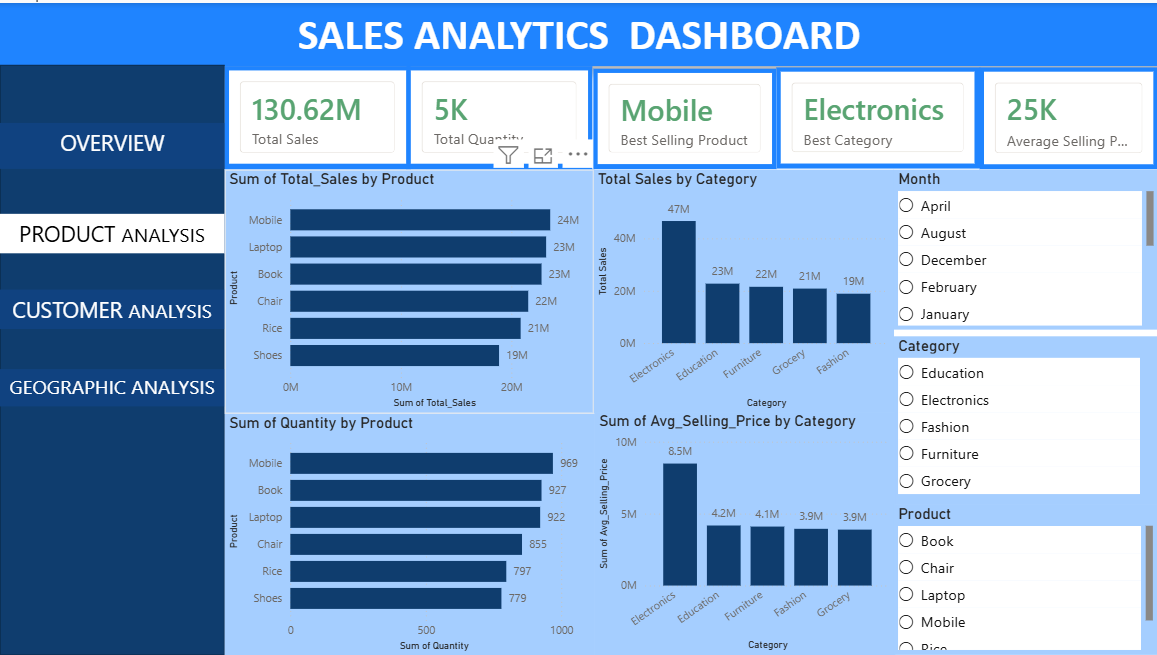

This screenshot's page, from the dashboard's own definition file:
{"tool":"powerbi","page":{"name":"PRODUCT ANALYSIS","canvas":[1280,720],"ordinal":1},"visuals":[{"type":"textbox","box":[0,0,1279.4,69.7],"z":0},{"type":"shape","box":[0,68.1,248,651.7],"z":1000},{"type":"textbox","box":[0,132.3,248,50.6],"z":2000},{"type":"textbox","box":[0,232.7,247.6,43.3],"z":3000},{"type":"textbox","box":[0,316.9,247.6,43.3],"z":4000},{"type":"textbox","box":[0,404.8,247.6,40.9],"z":5000},{"type":"cardVisual","fields":{"Data":["sales_data_cleaned.Total Sales"]},"box":[248,69.1,205.2,113.8],"z":6000},{"type":"cardVisual","fields":{"Data":["sales_data_cleaned.Total Quantity"]},"box":[449.4,69.1,205.2,113.8],"z":7000},{"type":"cardVisual","fields":{"Data":["sales_data_cleaned.Average Selling Price"]},"box":[1081.6,71,197.4,112.8],"z":8000},{"type":"cardVisual","fields":{"Data":["sales_data_cleaned.Best Category"]},"box":[856.9,71,224.7,111.9],"z":9000},{"type":"clusteredColumnChart","fields":{"Category":["sales_data_cleaned.Category"],"Y":["sales_data_cleaned.Total Sales"]},"box":[655.6,183.8,331.7,268.4],"z":10000},{"type":"barChart","fields":{"Category":["sales_data_cleaned.Product"],"Y":["Sum(sales_data_cleaned.Quantity)"]},"box":[248,452.3,408.5,267.5],"z":11000},{"type":"listSlicer","fields":{"Values":["sales_data_cleaned.Month"]},"box":[987.2,183.8,292.8,177],"z":12000},{"type":"listSlicer","fields":{"Values":["sales_data_cleaned.Category"]},"box":[987.2,367.7,290.8,185.8],"z":13000},{"type":"barChart","fields":{"Category":["sales_data_cleaned.Product"],"Y":["Sum(sales_data_cleaned.Total_Sales)"]},"box":[248,183.8,408.5,268.4],"z":14000},{"type":"cardVisual","fields":{"Data":["sales_data_cleaned.Best Selling Product"]},"box":[654.6,72,202.3,110.9],"z":15000},{"type":"clusteredColumnChart","fields":{"Category":["sales_data_cleaned.Category"],"Y":["Sum(sales_data_cleaned.Avg_Selling_Price)"]},"box":[656.5,451.3,331.7,268.4],"z":16000},{"type":"listSlicer","fields":{"Values":["sales_data_cleaned.Product"]},"box":[987.2,553.4,291.8,166.3],"z":17000},{"type":"shape","box":[0,318.1,248,43.8],"z":17001},{"type":"shape","box":[0,135.2,248,43.8],"z":17002},{"type":"shape","box":[0,407.5,248,43.8],"z":17003}]}

Visuals, with their boxes on the page's 1280x720 design canvas (x1, y1, x2, y2). These are canvas units, not pixel positions in the 1157x655 screenshot, which may show the page scaled, cropped or inside an application window:
textbox: rect(0, 0, 1279, 70)
shape: rect(0, 68, 248, 720)
textbox: rect(0, 132, 248, 183)
textbox: rect(0, 233, 248, 276)
textbox: rect(0, 317, 248, 360)
textbox: rect(0, 405, 248, 446)
cardVisual - sales_data_cleaned.Total Sales: rect(248, 69, 453, 183)
cardVisual - sales_data_cleaned.Total Quantity: rect(449, 69, 655, 183)
cardVisual - sales_data_cleaned.Average Selling Price: rect(1082, 71, 1279, 184)
cardVisual - sales_data_cleaned.Best Category: rect(857, 71, 1082, 183)
clusteredColumnChart - sales_data_cleaned.Category x sales_data_cleaned.Total Sales: rect(656, 184, 987, 452)
barChart - sales_data_cleaned.Product x Sum(sales_data_cleaned.Quantity): rect(248, 452, 656, 720)
listSlicer - sales_data_cleaned.Month: rect(987, 184, 1280, 361)
listSlicer - sales_data_cleaned.Category: rect(987, 368, 1278, 554)
barChart - sales_data_cleaned.Product x Sum(sales_data_cleaned.Total_Sales): rect(248, 184, 656, 452)
cardVisual - sales_data_cleaned.Best Selling Product: rect(655, 72, 857, 183)
clusteredColumnChart - sales_data_cleaned.Category x Sum(sales_data_cleaned.Avg_Selling_Price): rect(656, 451, 988, 720)
listSlicer - sales_data_cleaned.Product: rect(987, 553, 1279, 720)
shape: rect(0, 318, 248, 362)
shape: rect(0, 135, 248, 179)
shape: rect(0, 408, 248, 451)
